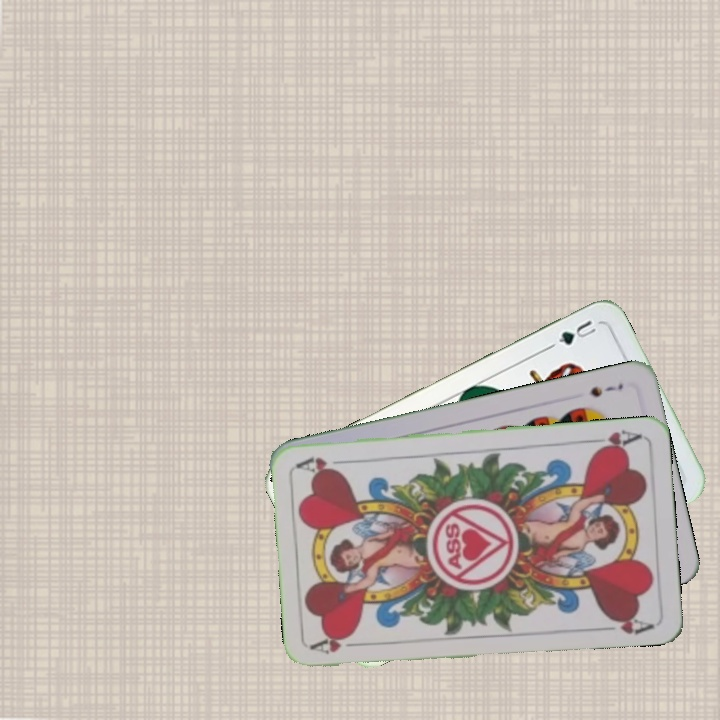GU: (554, 316, 601, 348)
HA: (584, 426, 643, 454), (308, 631, 367, 657)
S7: (586, 379, 626, 400)
